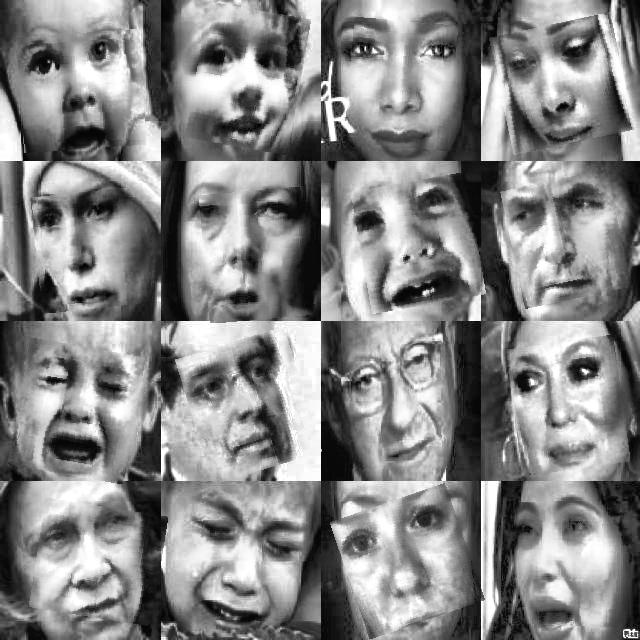angry: (506, 174, 626, 304), (202, 188, 312, 321)
fear: (494, 18, 630, 150), (18, 31, 145, 151)
happy: (190, 6, 306, 152), (346, 19, 456, 149)
neutral: (339, 491, 477, 631), (184, 333, 314, 478), (33, 502, 165, 622), (509, 339, 626, 473), (33, 188, 150, 310), (345, 345, 451, 469)
sad: (13, 342, 140, 479), (202, 485, 314, 637), (356, 176, 482, 310), (513, 503, 619, 627)
